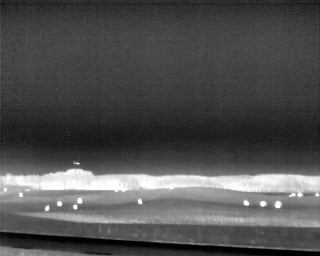AIRPLANE: (71, 158, 82, 167)
